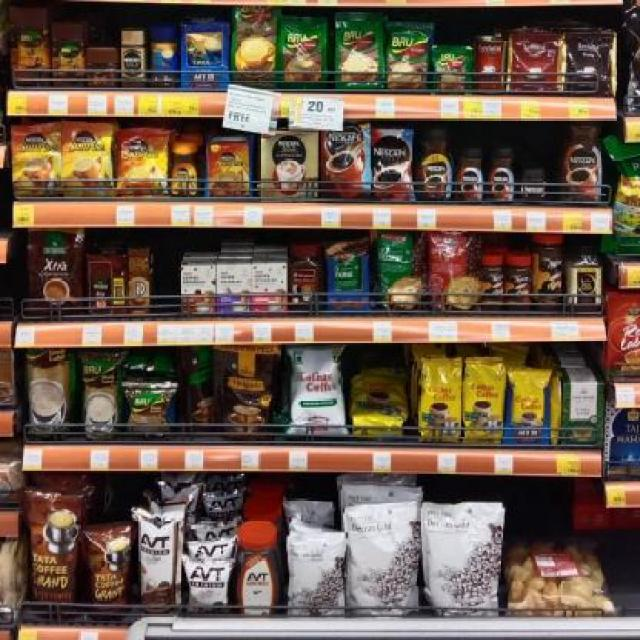Coffee: (321, 124, 368, 201), (64, 124, 110, 198), (562, 120, 601, 202), (12, 127, 58, 196), (119, 128, 164, 194), (372, 131, 411, 200), (419, 132, 453, 200), (171, 143, 200, 195), (458, 149, 484, 203), (488, 148, 514, 201), (121, 30, 145, 86), (520, 168, 548, 201)
